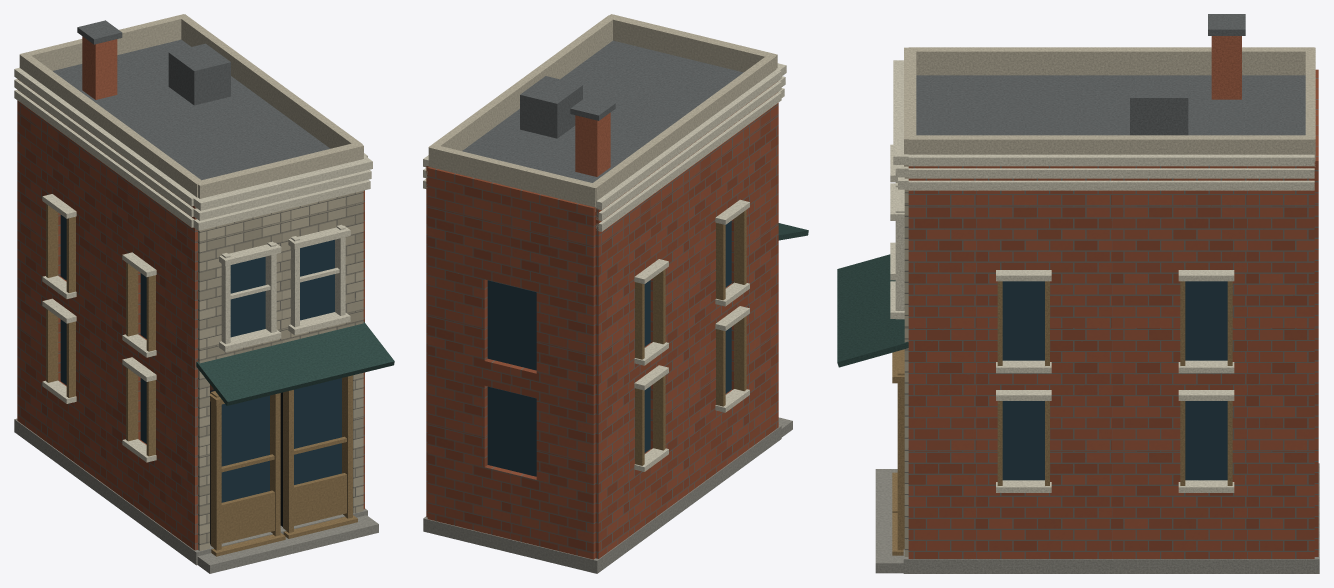
Rendered from BUSS8_lod2.glb.
The picture shows the model from 3 angles, left to right: view 1: azimuth 30°, elevation 25°; view 2: azimuth 150°, elevation 25°; view 3: azimuth 270°, elevation 25°; orthographic projection. The views are drawn at different scales.
Visible parts, largest first — view 1: BUSS8_LOD2; view 2: BUSS8_LOD2; view 3: BUSS8_LOD2.
Boxes of the visible parts, bbox=[...] form: BUSS8_LOD2: bbox=[14, 14, 394, 573]; BUSS8_LOD2: bbox=[423, 14, 808, 573]; BUSS8_LOD2: bbox=[837, 14, 1319, 573].
Bounding box in the file's own units: 3.71 × 7.85 × 7.13.
Materials: 11 (9 with a texture image).
